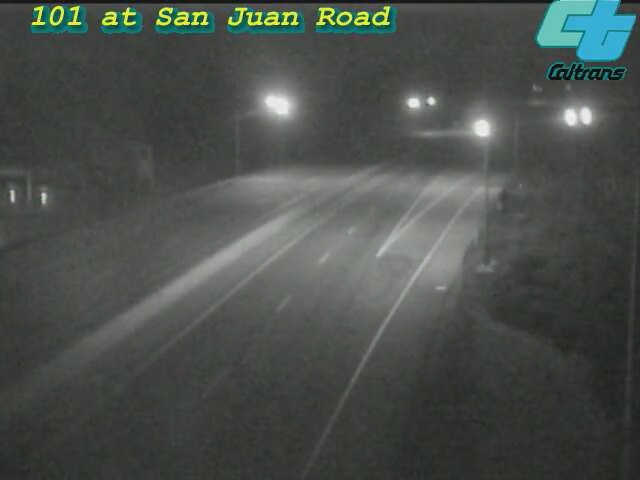vehicle: (457, 106, 507, 156), (546, 92, 596, 142), (560, 92, 610, 142)
